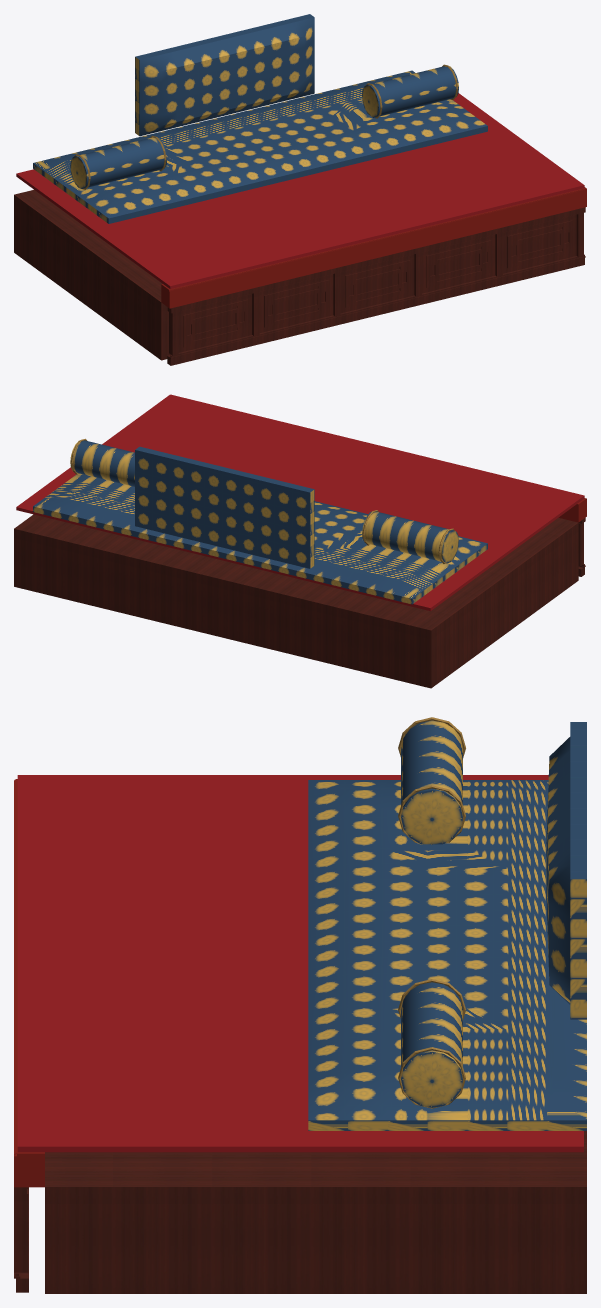
File: nuange-kang-v1.glb
3 renders of one model, top to bottom at view 1: azimuth 30°, elevation 25°; view 2: azimuth 150°, elevation 25°; view 3: azimuth 270°, elevation 25°, orthographic. The views are drawn at different scales.
Parts seen in each view (by area): view 1: kang_jin, kang_zhan, kang_mu, kang_yan, kang_carve; view 2: kang_mu, kang_jin, kang_zhan; view 3: kang_zhan, kang_jin, kang_mu, kang_yan, kang_jin_bian.
Boxes of the visible parts, box(x1,y1,x2,y2) form: kang_jin: box(33, 14, 487, 223); kang_zhan: box(16, 93, 584, 289); kang_mu: box(14, 190, 585, 365); kang_yan: box(161, 187, 586, 308); kang_carve: box(183, 220, 572, 347); kang_mu: box(14, 514, 585, 688); kang_jin: box(33, 440, 487, 604); kang_zhan: box(16, 394, 584, 610); kang_zhan: box(17, 775, 583, 1152); kang_jin: box(308, 720, 586, 1130); kang_mu: box(14, 1131, 586, 1293); kang_yan: box(14, 779, 44, 1187); kang_jin_bian: box(398, 717, 465, 1108).
Bounding box in the file's own units: 2.86 × 1.09 × 1.85.
Materials: 5 (2 with a texture image).
